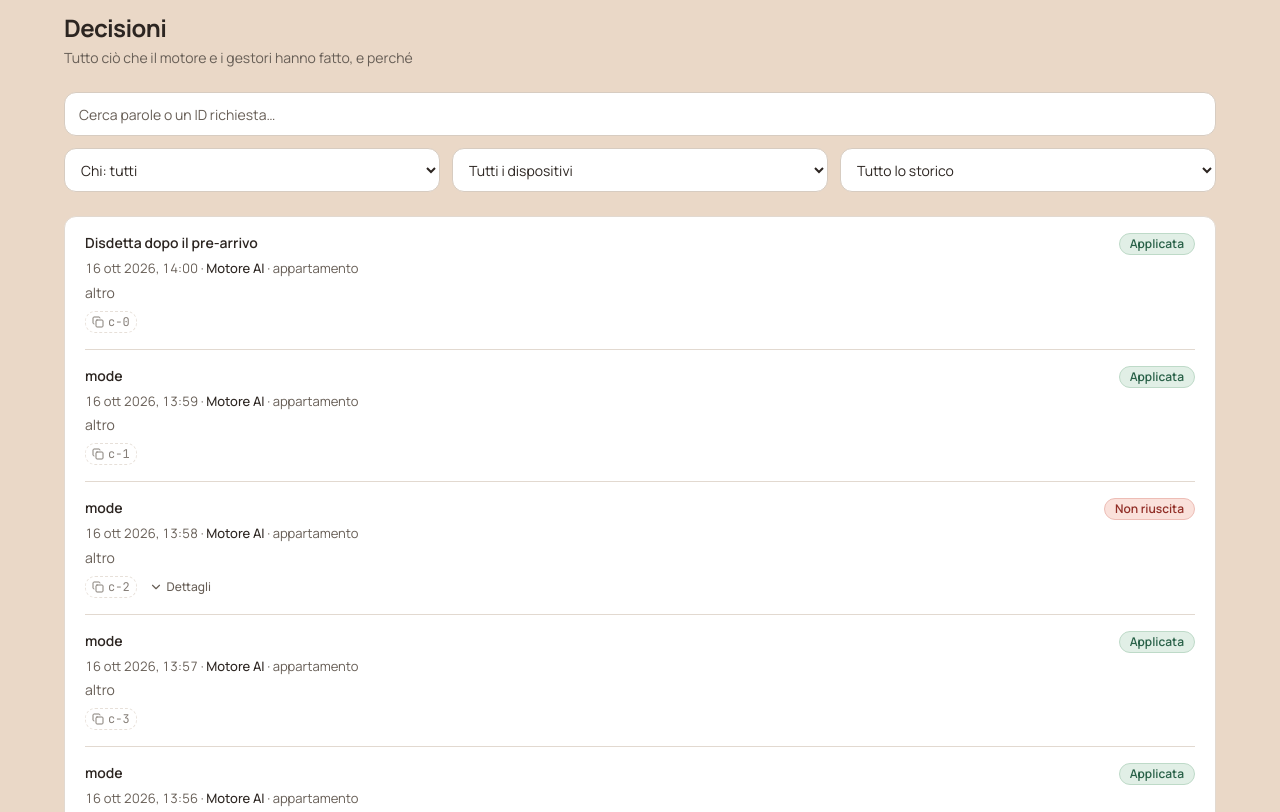
Scenario: Decisioni: ricerca in tutto lo storico › una parola che non è nelle prime righe: il primo lotto dice fin dove ha cercato, «Cerca più indietro» la trova
Type "finestra" into the search field with test id "decisions-search-input" at (640, 114), box [64,92,1216,136]
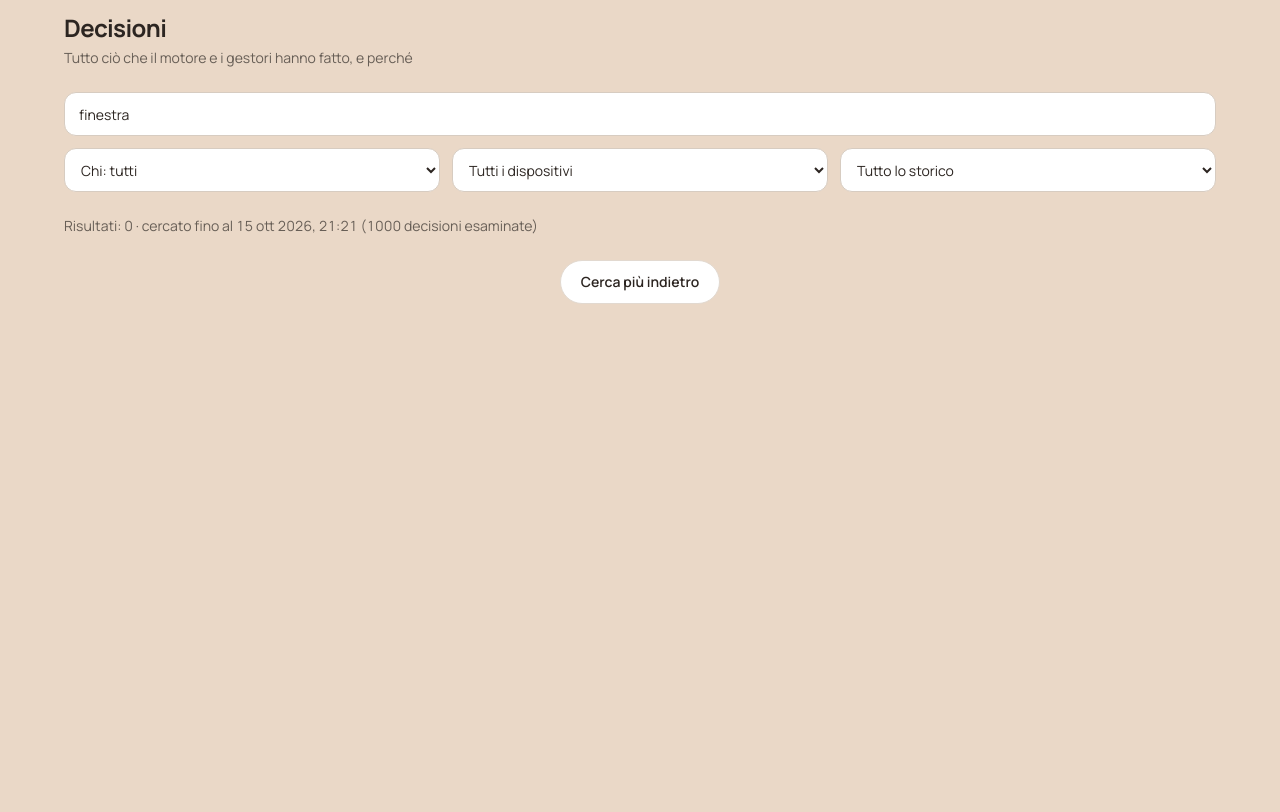
Check: the text with test id "decisions-search-status" shows "Risultati: 0", box [64,216,538,235]
Check: the text with test id "decisions-search-status" shows "1000 decisioni esaminate", box [64,216,538,235]
Click the button with test id "decisions-search-more-btn" at (640, 282), box [560,260,720,304]
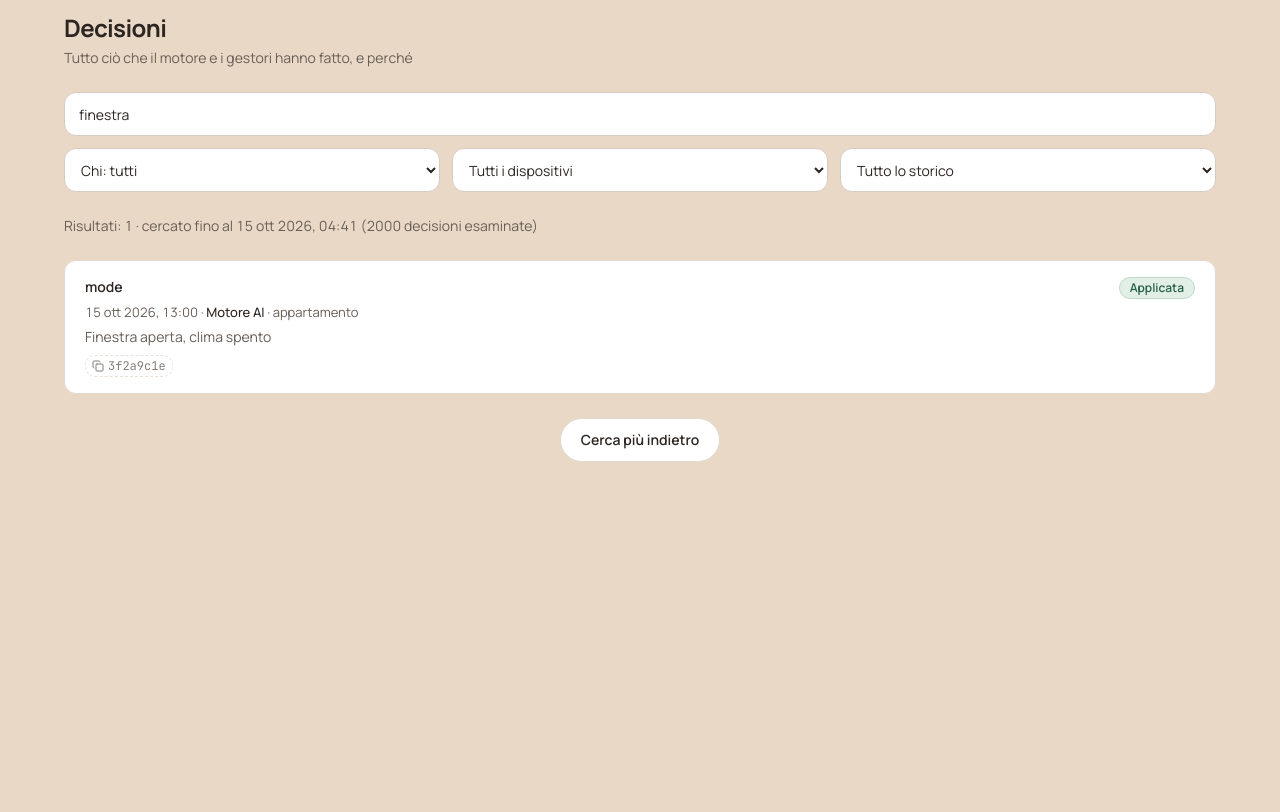
Check: the list item with test id "decision-row-d-1500" is shown, box [85,261,1195,392]
Check: the text with test id "decisions-search-status" shows "Risultati: 1", box [64,216,538,235]
